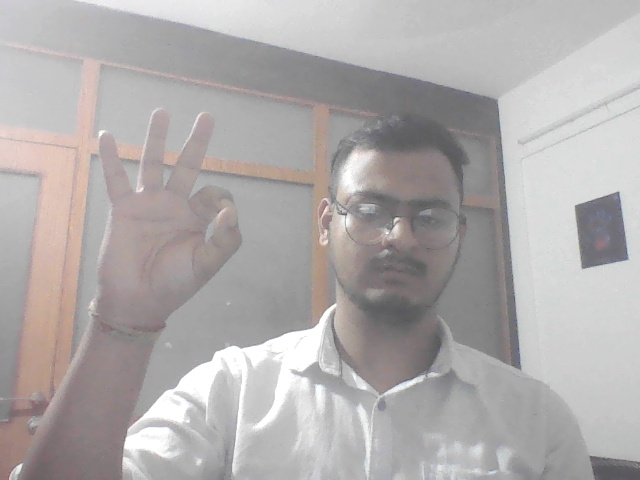OK: (78, 103, 254, 324)
